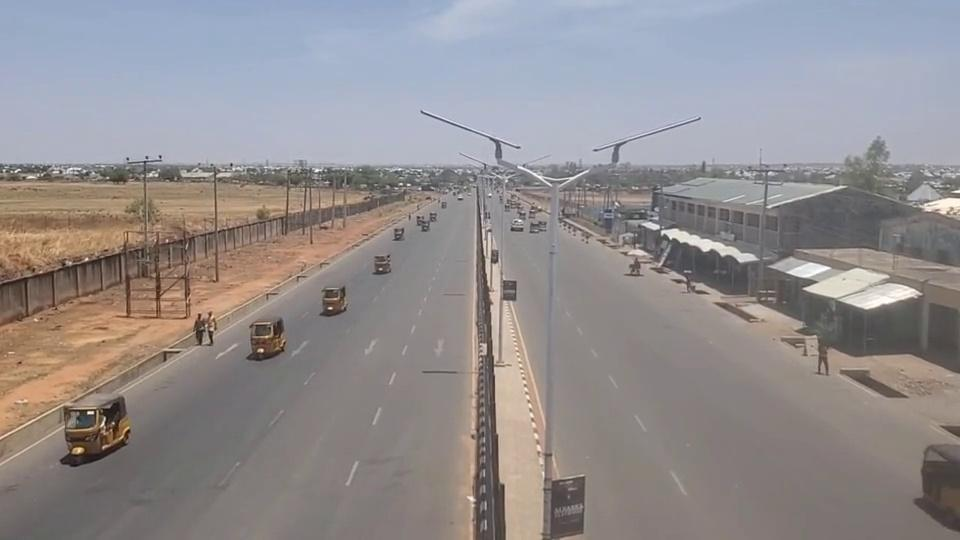keke: (62, 394, 131, 457), (919, 441, 960, 530), (248, 316, 285, 359), (320, 285, 347, 315), (374, 253, 391, 276)
